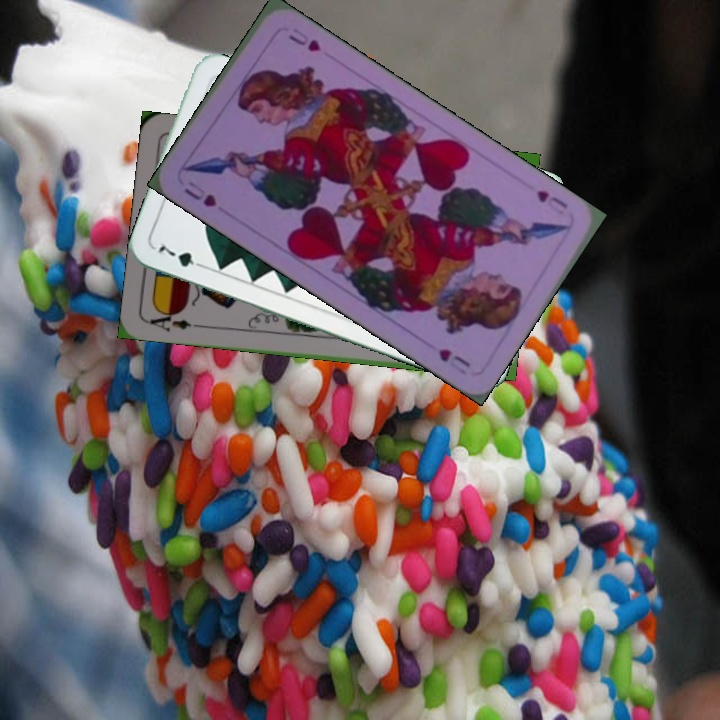EA: (144, 306, 193, 335)
G7: (154, 240, 209, 271)
HU: (180, 176, 219, 210), (532, 186, 571, 218)
